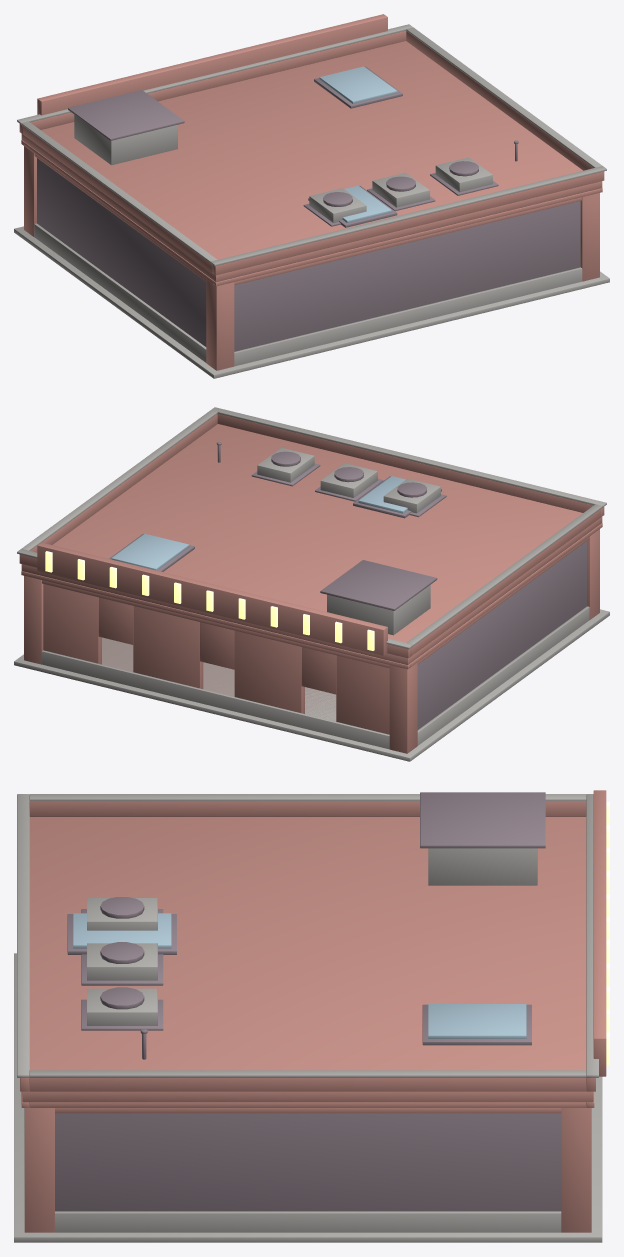
File: th10_kino.glb
3 views of the same model, one above another, from view 1: azimuth 30°, elevation 25°; view 2: azimuth 150°, elevation 25°; view 3: azimuth 270°, elevation 25° (orthographic). The views are drawn at different scales.
Visible parts, largest first — view 1: Cube.012, Cube.009, Cube.010, Cube.013, Cube, Cube.563, Cube.575, Cube.584, Cube.576, Cube.565, Cube.583, Cube.579 (+18 smaller); view 2: Cube.012, Cube.010, Cube.013, Cube, Cube.564, Cube.003, Cube.004, Cube.575, Cube.005, Cube.002, Cube.584, Cube.565 (+22 smaller); view 3: Cube.012, Cube.011, Cube.566, Cube, Cube.578, Cube.584, Cube.577, Cube.582, Cube.583, Cube.013, Cube.561, Cube.562 (+17 smaller).
Part boxes in pixels (box(x1,y1,x2,y2)): Cube.012: box(21, 41, 602, 282); Cube.009: box(234, 201, 580, 351); Cube.010: box(37, 158, 206, 346); Cube.013: box(37, 14, 387, 115); Cube: box(14, 226, 609, 378); Cube.563: box(234, 267, 582, 366); Cube.575: box(212, 171, 604, 275); Cube.584: box(68, 90, 184, 140); Cube.576: box(19, 31, 406, 134); Cube.565: box(34, 223, 206, 362); Cube.583: box(74, 115, 177, 165); Cube.579: box(210, 166, 606, 266); Cube.012: box(21, 424, 602, 665); Cube.010: box(417, 541, 586, 729); Cube.013: box(37, 542, 387, 655); Cube: box(14, 609, 609, 761); Cube.564: box(41, 650, 389, 749); Cube.003: box(234, 630, 304, 713); Cube.004: box(133, 606, 203, 688); Cube.575: box(217, 413, 604, 516); Cube.005: box(43, 584, 101, 664); Cube.002: box(336, 655, 389, 734); Cube.584: box(320, 560, 437, 610); Cube.565: box(417, 606, 589, 745); Cube.012: box(22, 817, 593, 1102); Cube.011: box(55, 1113, 561, 1211); Cube.566: box(55, 1211, 561, 1232); Cube: box(14, 953, 602, 1242); Cube.578: box(29, 1078, 586, 1091); Cube.584: box(420, 792, 545, 848); Cube.577: box(29, 801, 586, 816); Cube.582: box(29, 1070, 586, 1077); Cube.583: box(428, 848, 537, 885); Cube.013: box(593, 790, 606, 1076); Cube.561: box(24, 1108, 54, 1232); Cube.562: box(561, 1108, 591, 1232).
Size of the model in its own units: 32 by 10.06 by 28.37.
